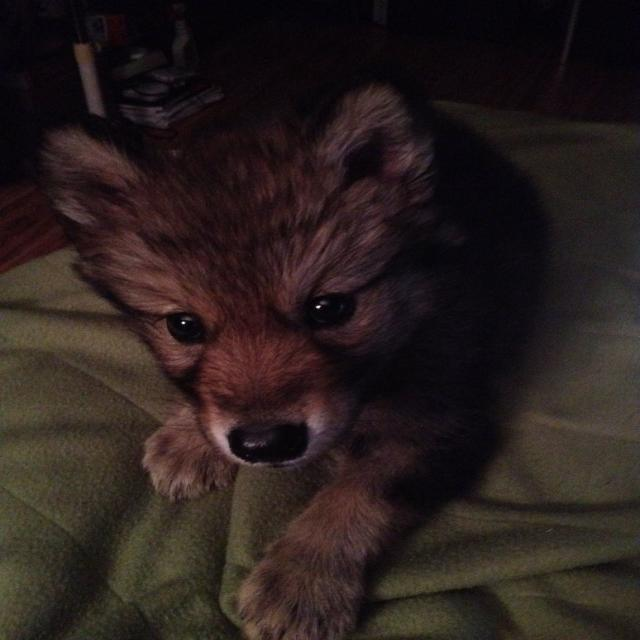dog: (47, 89, 533, 612)
